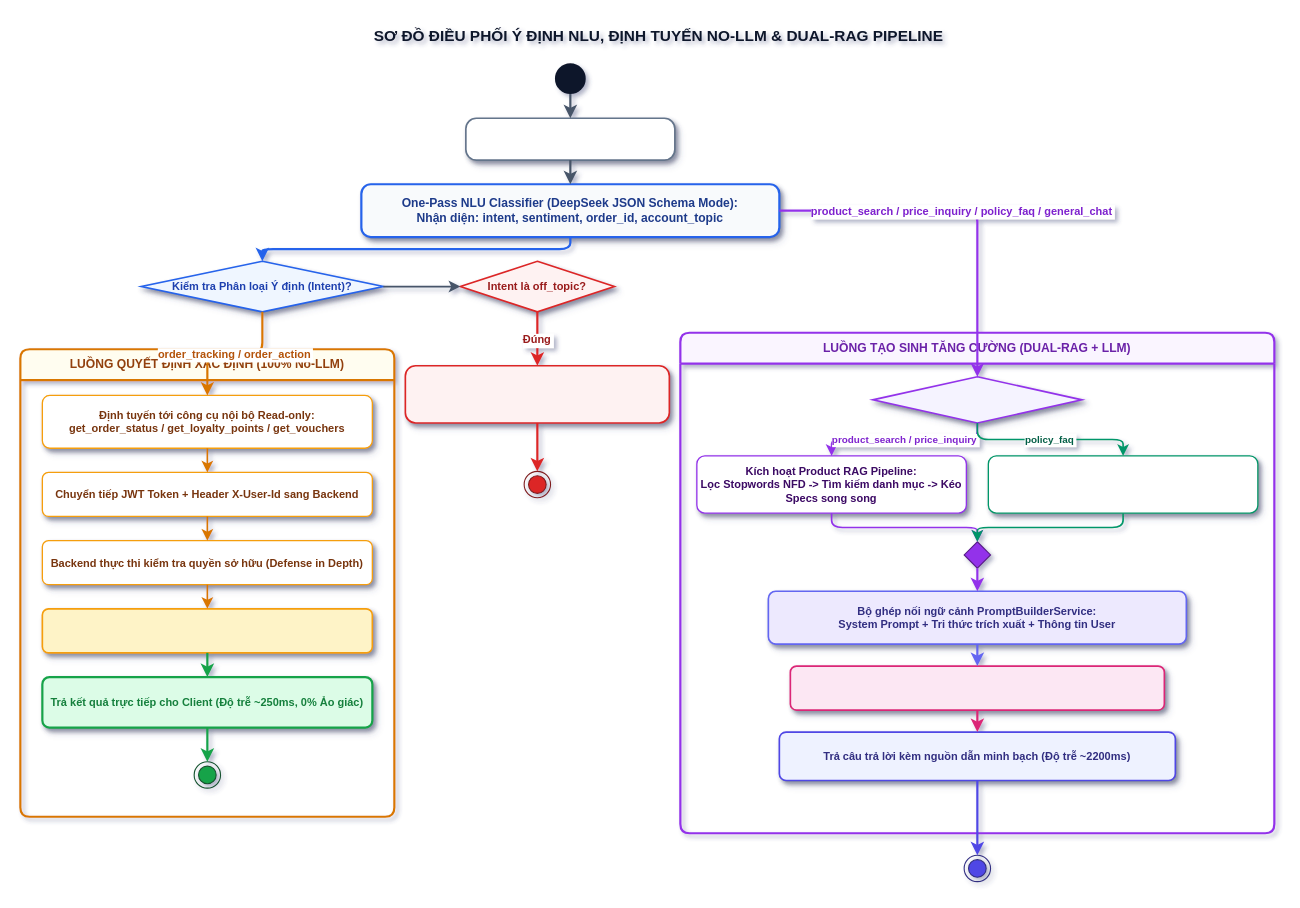
This 1300x908 diagram has some shape labels left out. Each missing label, with the centre of its shape:
Gọi DeepSeek-Chat suy luận tạo sinh văn bản tự nhiên: (x=978, y=689)
Intent thuộc nhóm Sản phẩm?: (x=978, y=401)
Kích hoạt Bộ lọc Ranh giới Nội miền; Trả thông báo từ chối lịch sự OFFTOPIC_MSG: (x=538, y=395)
Kích hoạt Policy RAG Pipeline: Truy vấn FAISS kNN -> Kiểm tra ngưỡng Gatekeeper: (x=1124, y=485)
Người dùng gửi câu hỏi x: (x=571, y=140)
Đóng gói dữ liệu Payload thành Rich Card UI: (x=208, y=632)
